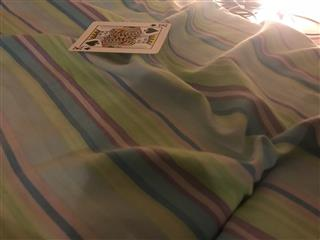KingOfSpades: (66, 20, 173, 54)
